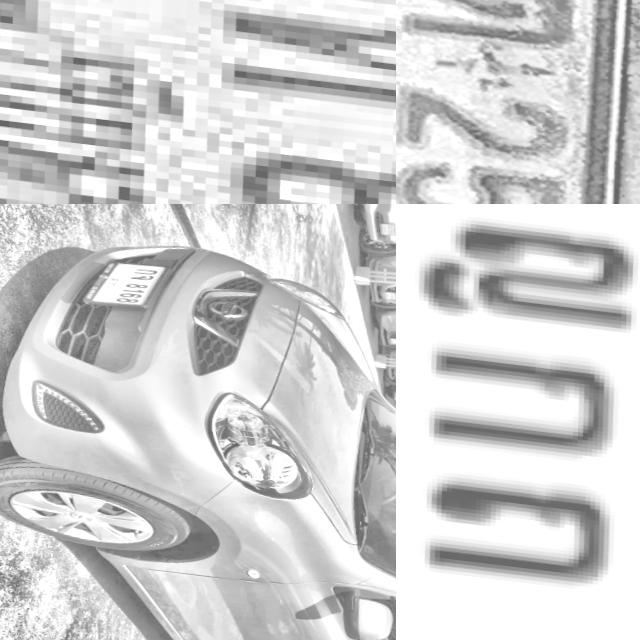license-plate: (396, 204, 640, 640), (0, 0, 396, 204), (396, 0, 640, 204), (69, 258, 174, 314), (373, 221, 396, 239), (378, 290, 395, 302), (384, 338, 396, 344), (390, 372, 396, 378), (391, 405, 396, 411)
